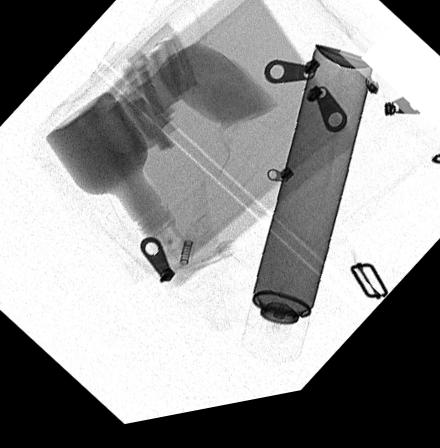Sprayer: (240, 55, 373, 376)
